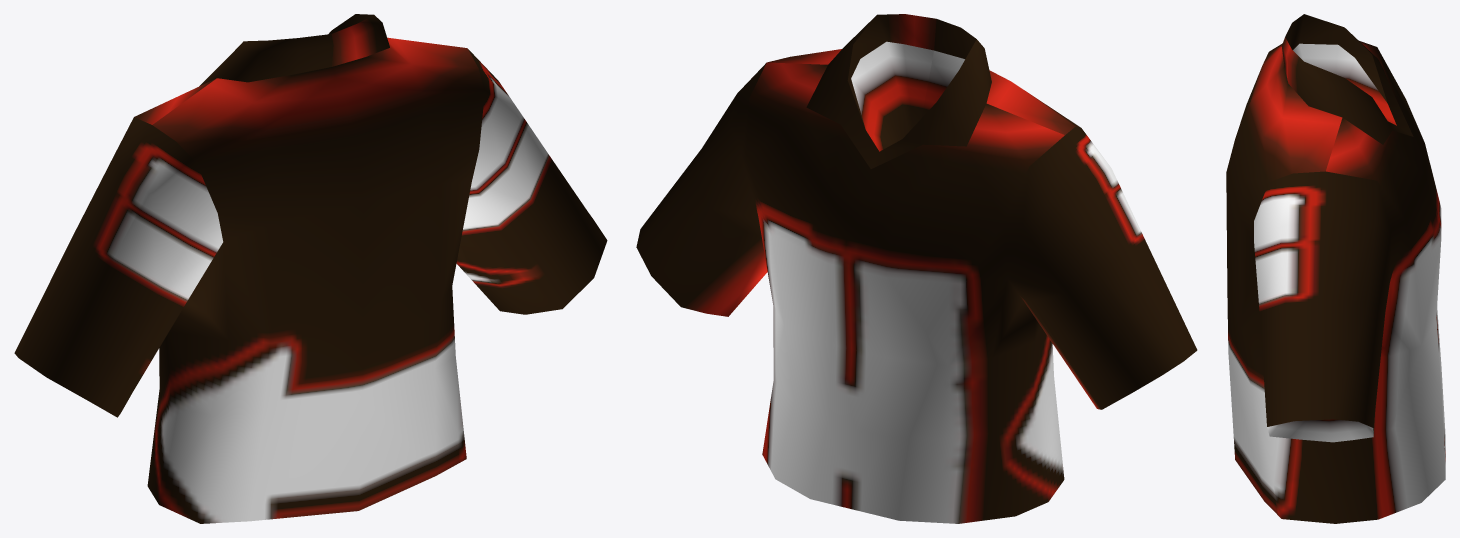
Rendered from list.ico.obj.
3 views of the same model, side by side, from view 1: azimuth 30°, elevation 25°; view 2: azimuth 150°, elevation 25°; view 3: azimuth 270°, elevation 25° (orthographic). The views are drawn at different scales.
Bounding box in the file's own units: 3.99 × 3.04 × 1.43.
